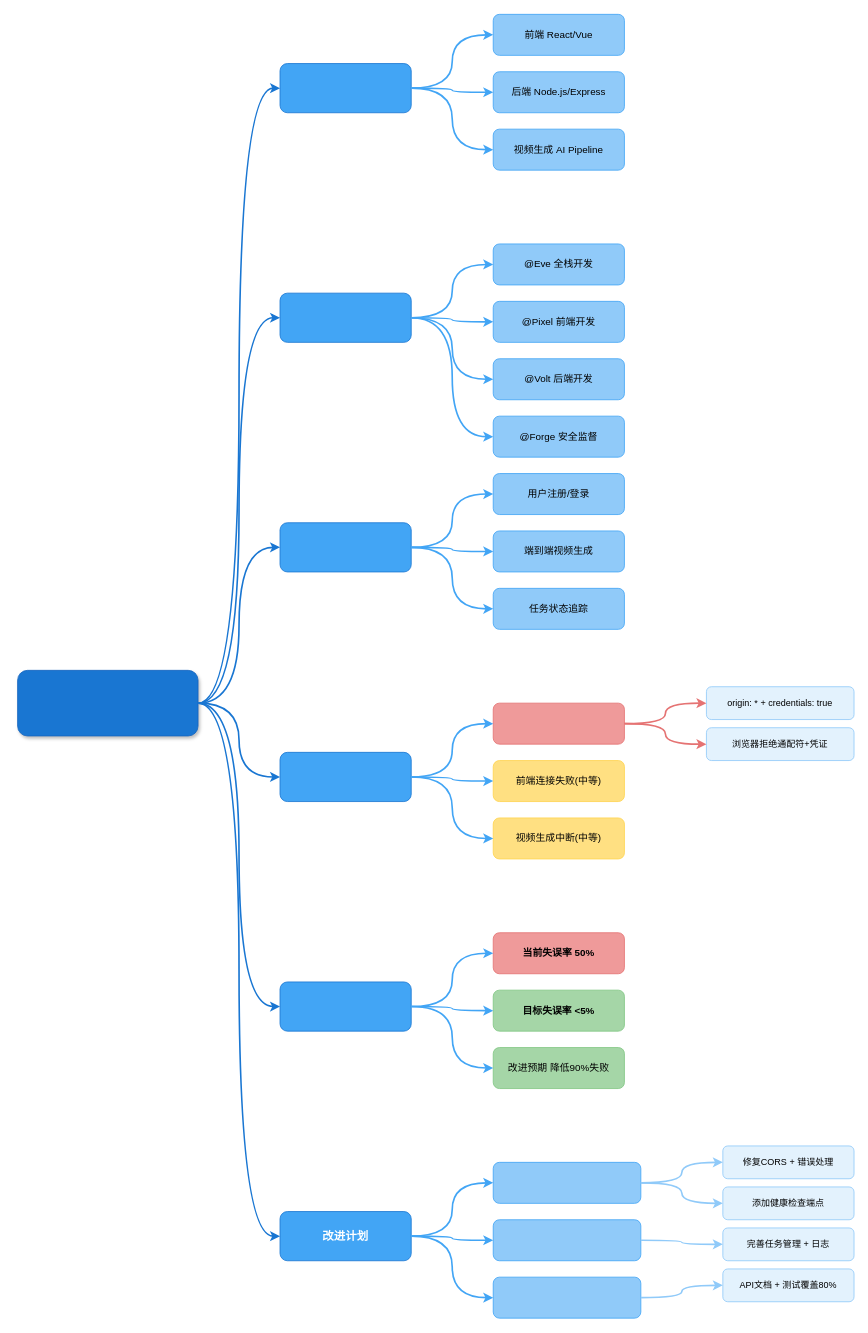
Image size: 868x1333. Some labels were removed from this diagram. The shapes that lost their labels are listed below. From the top down, each one's centre as x and y in pixels, then its label:
At [345,88]: "项目架构".
At [345,317]: "团队角色".
At [345,547]: "核心功能".
At [108,704]: "MineVideos AI视频平台".
At [558,723]: "CORS配置冲突(严重)".
At [345,777]: "已知问题".
At [345,1006]: "失误率分析".
At [566,1182]: "第一阶段 紧急修复(1-2天)".
At [566,1240]: "第二阶段 功能完善(3-5天)".
At [566,1297]: "第三阶段 质量提升(1-2周)".
